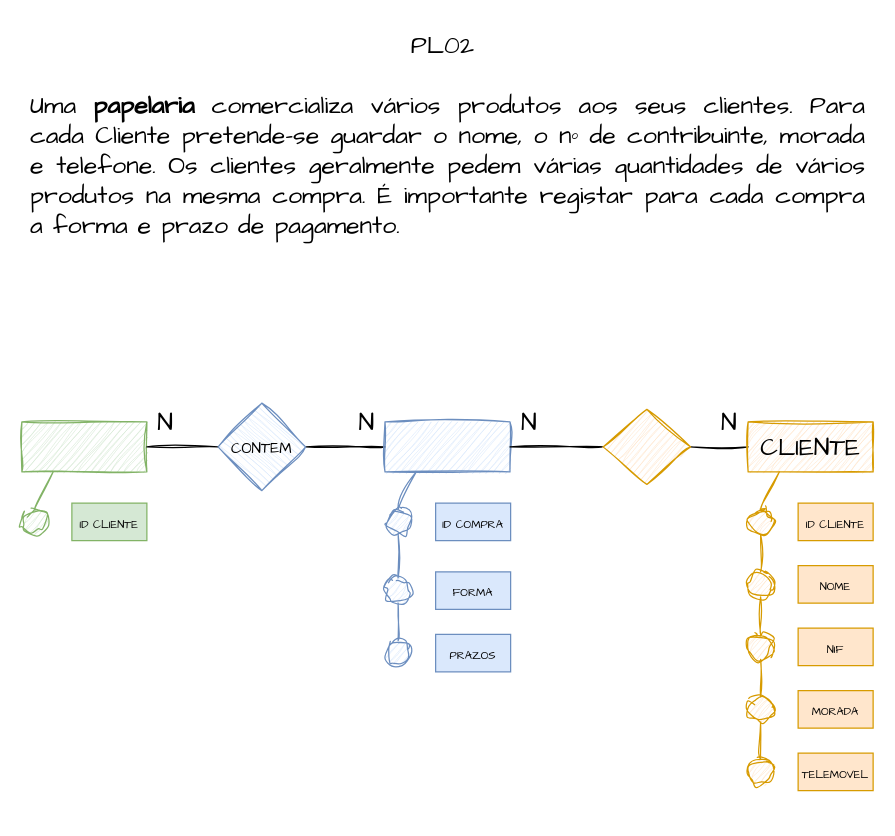
This 895x836 diagram has some shape labels left out. Each missing label, with the box of its shape:
COMPRA: (384, 421, 510, 472)
EXECUTA: (602, 408, 691, 484)
PRODUTO: (21, 421, 147, 472)
